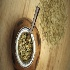guampa: (3, 6, 48, 70)
